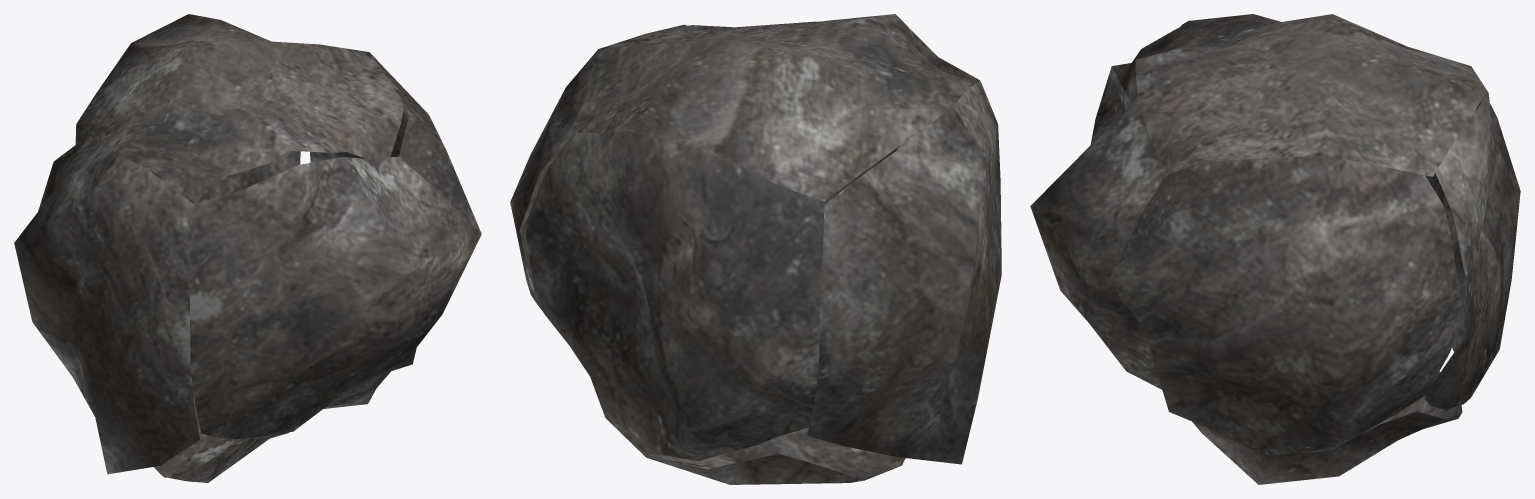
Rendered from Rock3.FBX.
3 renders of one model, left to right at view 1: azimuth 30°, elevation 25°; view 2: azimuth 150°, elevation 25°; view 3: azimuth 270°, elevation 25°, orthographic. The views are drawn at different scales.
Parts seen in each view (by area): view 1: rockLP001; view 2: rockLP001; view 3: rockLP001.
Part boxes in pixels (x1,y1,x2,y2): rockLP001: (14,14,481,482); rockLP001: (510,14,1001,484); rockLP001: (1030,14,1520,484).
Bounding box in the file's own units: 2.53 × 2.33 × 2.5.
Materials: 1 (1 with a texture image).
